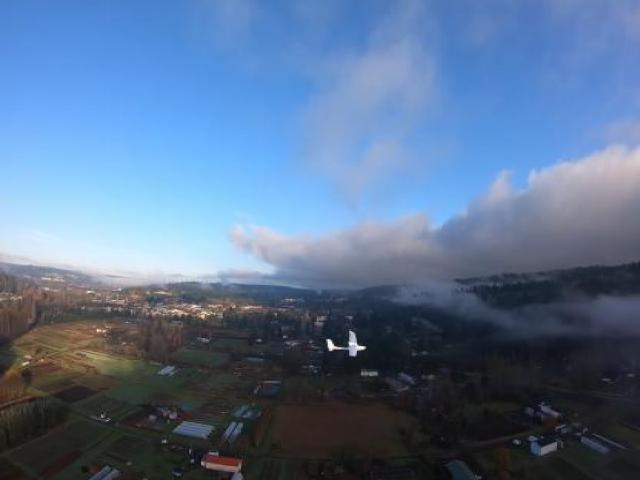uav: (325, 326, 366, 358)
